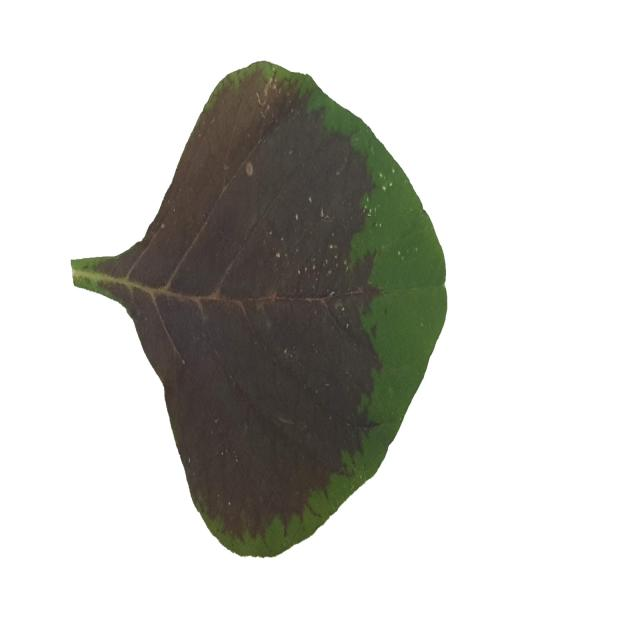Medicinal-Arive Dantu: (70, 54, 450, 557)
